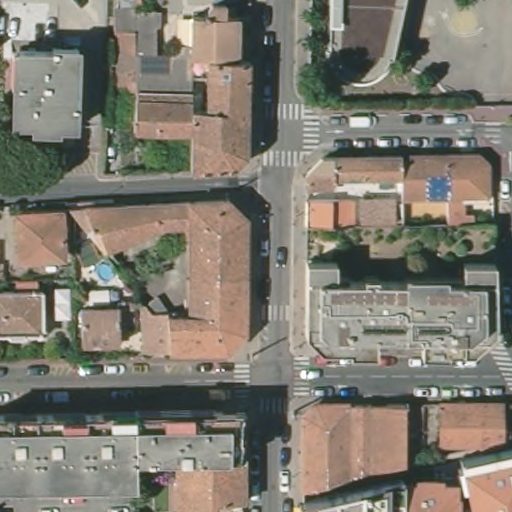pool: (93, 259, 119, 285)
